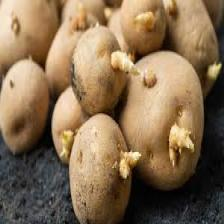Sprouted potato: (132, 53, 202, 179), (68, 113, 135, 224), (68, 22, 130, 120), (0, 56, 51, 158), (166, 1, 221, 93), (45, 11, 100, 84), (120, 4, 170, 52)
